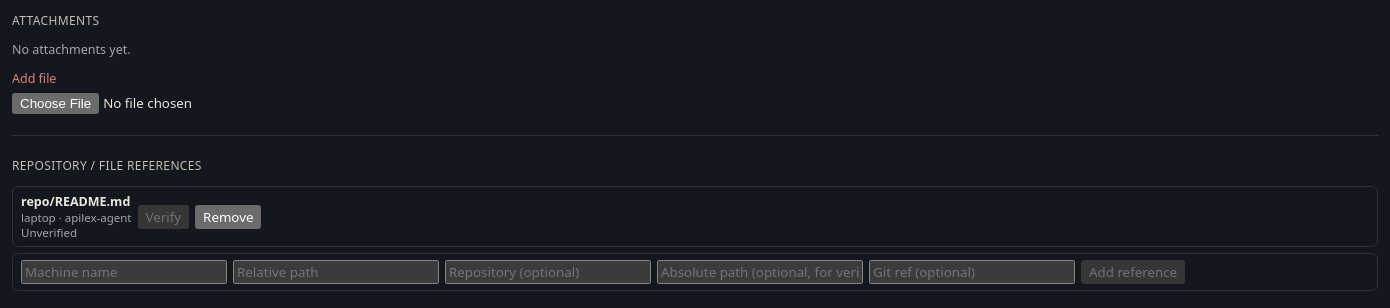
Test: FilesPanel › deletes a file reference after confirmation
Expected: the text "repo/README.md" is shown, [21,193,132,210]
Click the button with aria-label "remove reference".
click(228, 216)  # box [195,204,262,228]
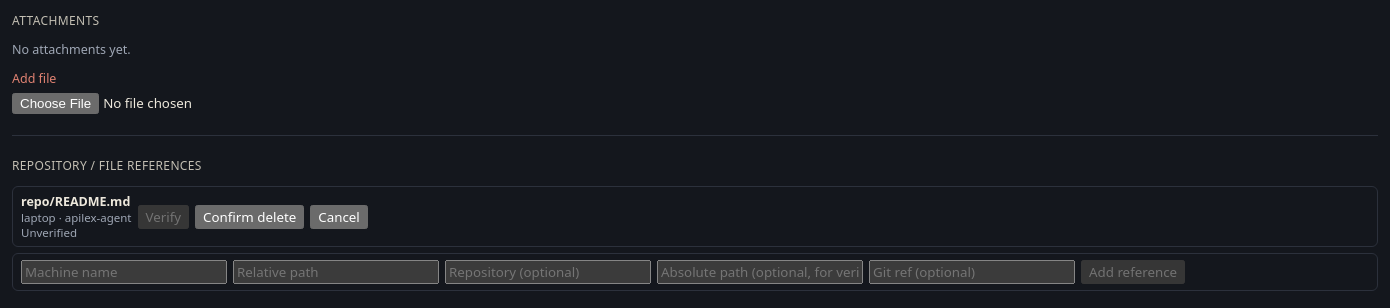
Click the button "Confirm delete".
click(250, 216)  # box [195,204,304,228]
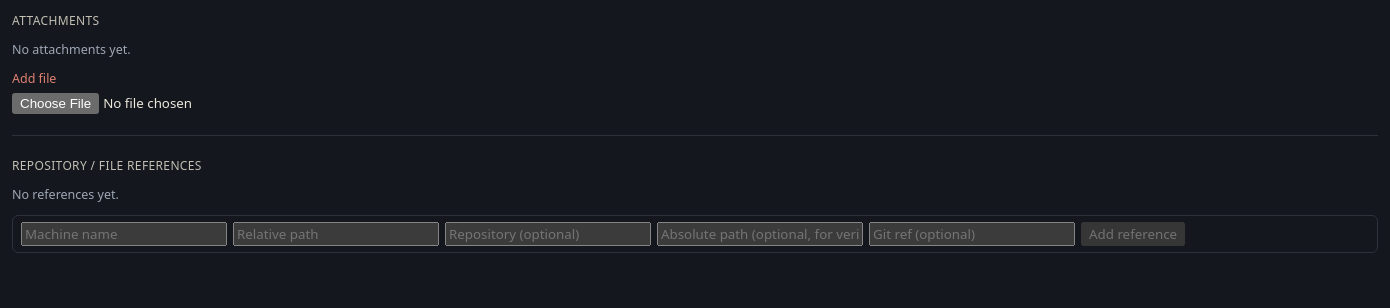
Expected: the text "No references yet." is shown, [12,186,119,203]
